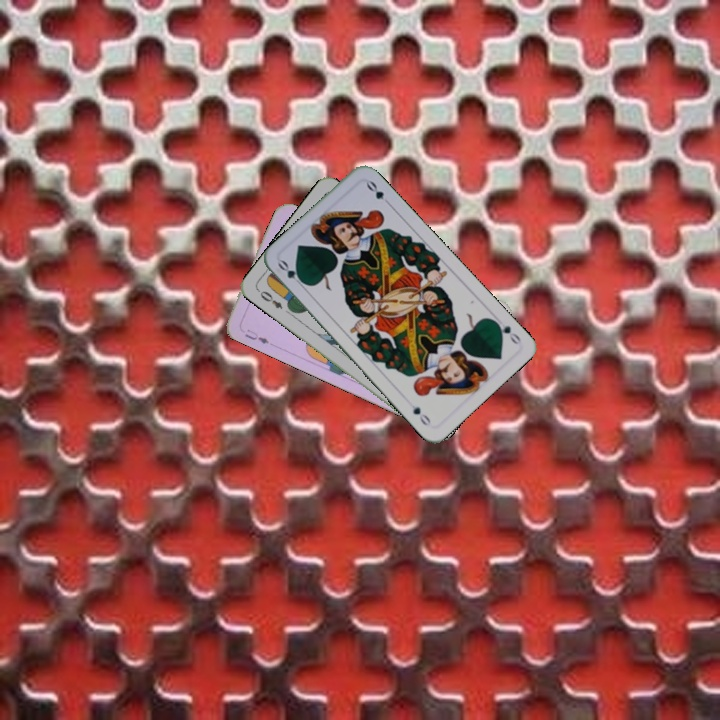EO: (253, 285, 285, 311)
EU: (241, 325, 272, 347)
GO: (274, 256, 309, 290), (489, 316, 524, 348)
